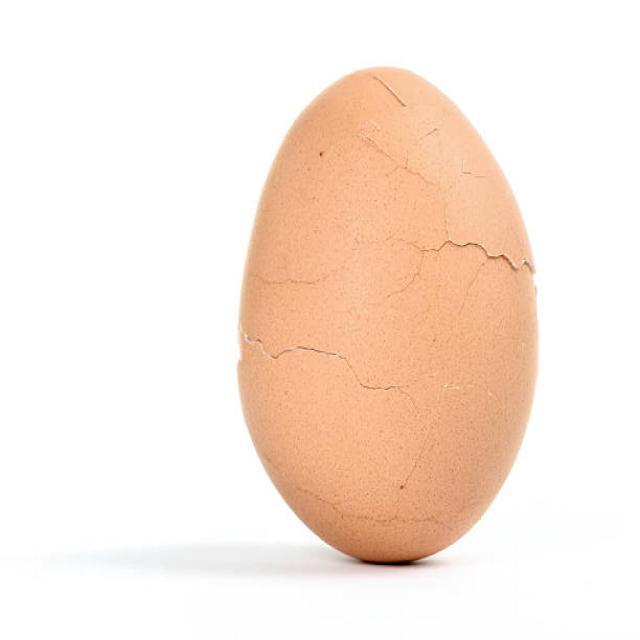biodegradable: (235, 68, 539, 559)
